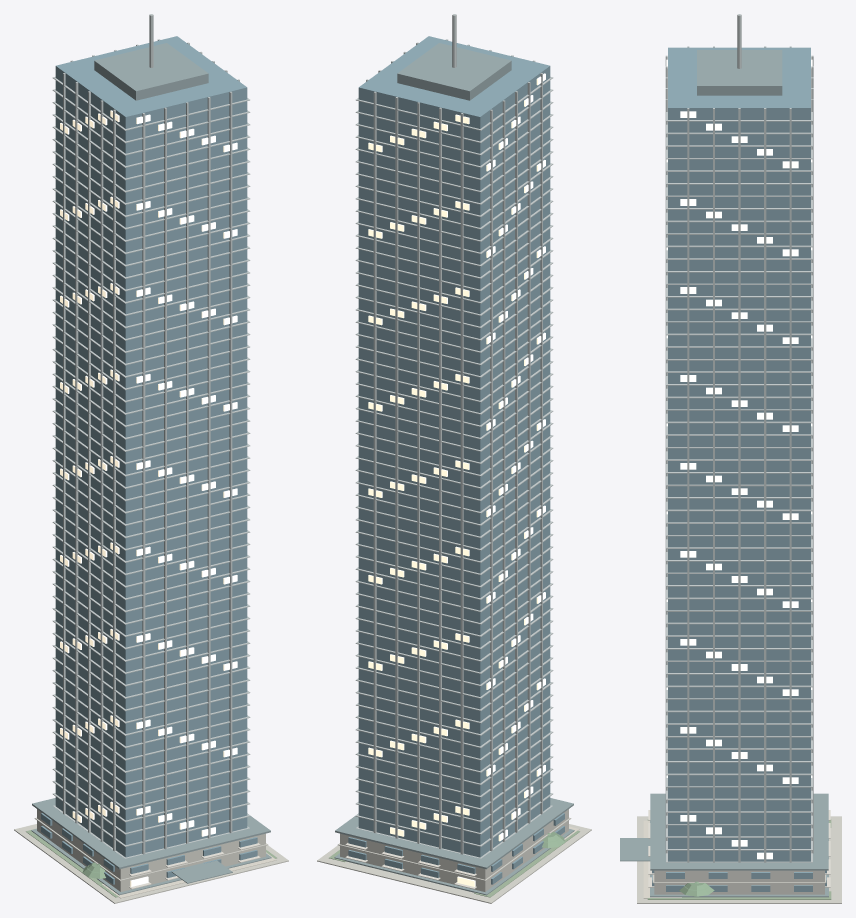
The model's file is remaster_skyscraper_6.glb.
3 renders of one model, left to right at view 1: azimuth 30°, elevation 25°; view 2: azimuth 150°, elevation 25°; view 3: azimuth 270°, elevation 25°, orthographic.
Visible parts, largest first — view 1: remaster_skyscraper_6 glass, remaster_skyscraper_6 metal, remaster_skyscraper_6 roof, remaster_skyscraper_6 warm, remaster_skyscraper_6 stone; view 2: remaster_skyscraper_6 glass, remaster_skyscraper_6 metal, remaster_skyscraper_6 roof, remaster_skyscraper_6 warm, remaster_skyscraper_6 stone, remaster_skyscraper_6 white; view 3: remaster_skyscraper_6 glass, remaster_skyscraper_6 metal, remaster_skyscraper_6 roof, remaster_skyscraper_6 stone, remaster_skyscraper_6 warm, remaster_skyscraper_6 green.
Boxes of the visible parts, x1,y1,x2,y2 form: remaster_skyscraper_6 glass: (41, 36, 257, 884); remaster_skyscraper_6 metal: (52, 14, 250, 858); remaster_skyscraper_6 roof: (31, 43, 271, 895); remaster_skyscraper_6 warm: (60, 110, 237, 886); remaster_skyscraper_6 stone: (14, 809, 288, 903); remaster_skyscraper_6 glass: (348, 36, 564, 884); remaster_skyscraper_6 metal: (355, 14, 553, 858); remaster_skyscraper_6 roof: (334, 43, 574, 895); remaster_skyscraper_6 warm: (368, 73, 545, 886); remaster_skyscraper_6 stone: (317, 809, 591, 903); remaster_skyscraper_6 white: (345, 843, 476, 889); remaster_skyscraper_6 glass: (652, 47, 826, 891); remaster_skyscraper_6 metal: (665, 14, 813, 862); remaster_skyscraper_6 roof: (620, 50, 828, 897); remaster_skyscraper_6 stone: (637, 816, 841, 903); remaster_skyscraper_6 warm: (666, 56, 812, 859); remaster_skyscraper_6 green: (647, 819, 831, 899).
Bounding box in the file's own units: 38.58 × 175 × 41.6.
